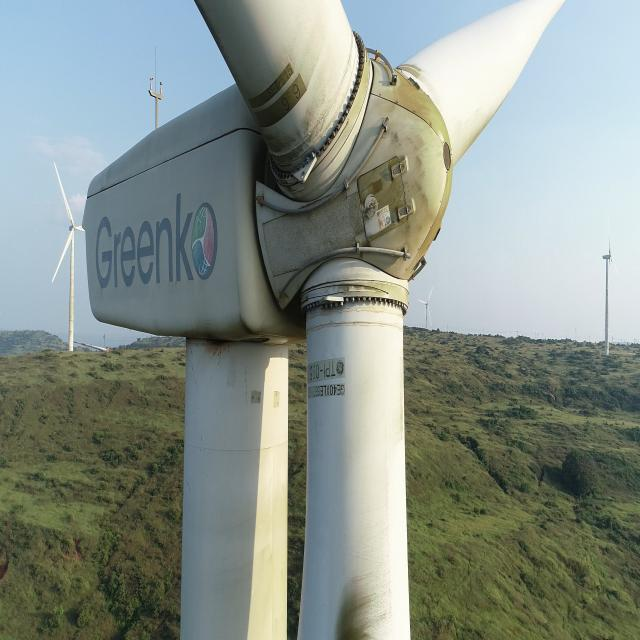Dirt: (331, 574, 392, 637)
